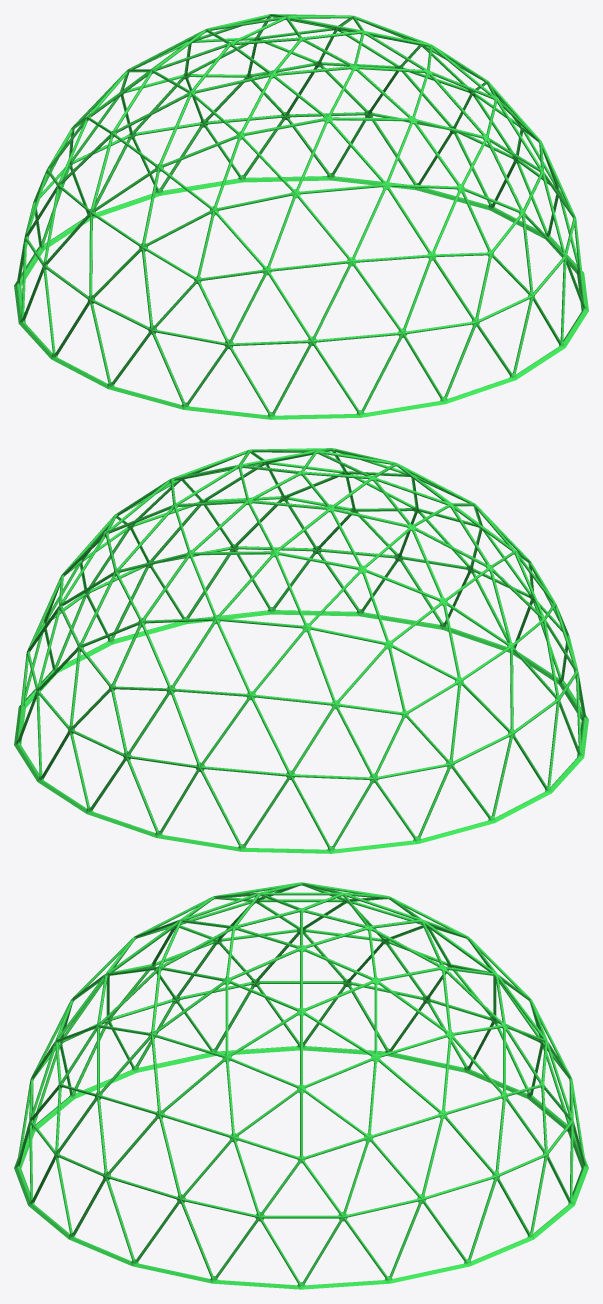
The model's file is Dome_Frame_Beveled.fbx.
The picture shows the model from 3 angles, top to bottom: view 1: azimuth 30°, elevation 25°; view 2: azimuth 150°, elevation 25°; view 3: azimuth 270°, elevation 25°; orthographic projection.
Parts seen in each view (by area): view 1: Icosphere; view 2: Icosphere; view 3: Icosphere.
Part boxes in pixels (left/top/right/bottom): Icosphere: left=14, top=14, right=588, bottom=419; Icosphere: left=14, top=448, right=588, bottom=853; Icosphere: left=14, top=882, right=588, bottom=1289.
Bounding box in the file's own units: 4055 × 2023 × 4055.
